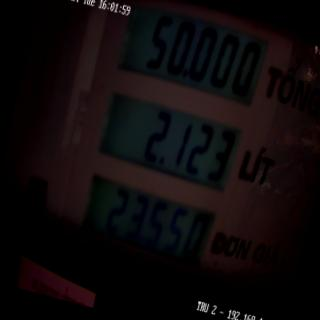screen: (61, 0, 277, 290)
